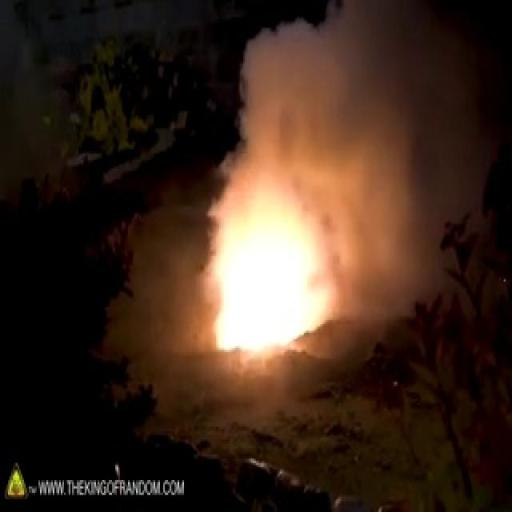smoke: (215, 178, 326, 351)
